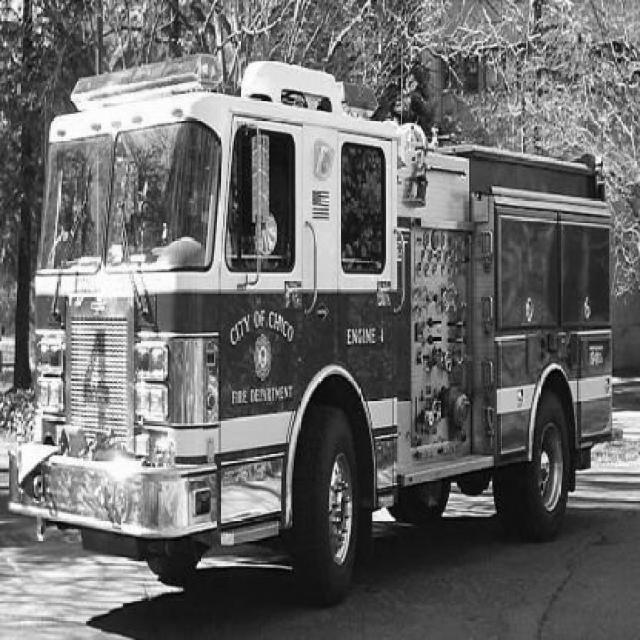Fire Truck: (9, 53, 627, 608)
